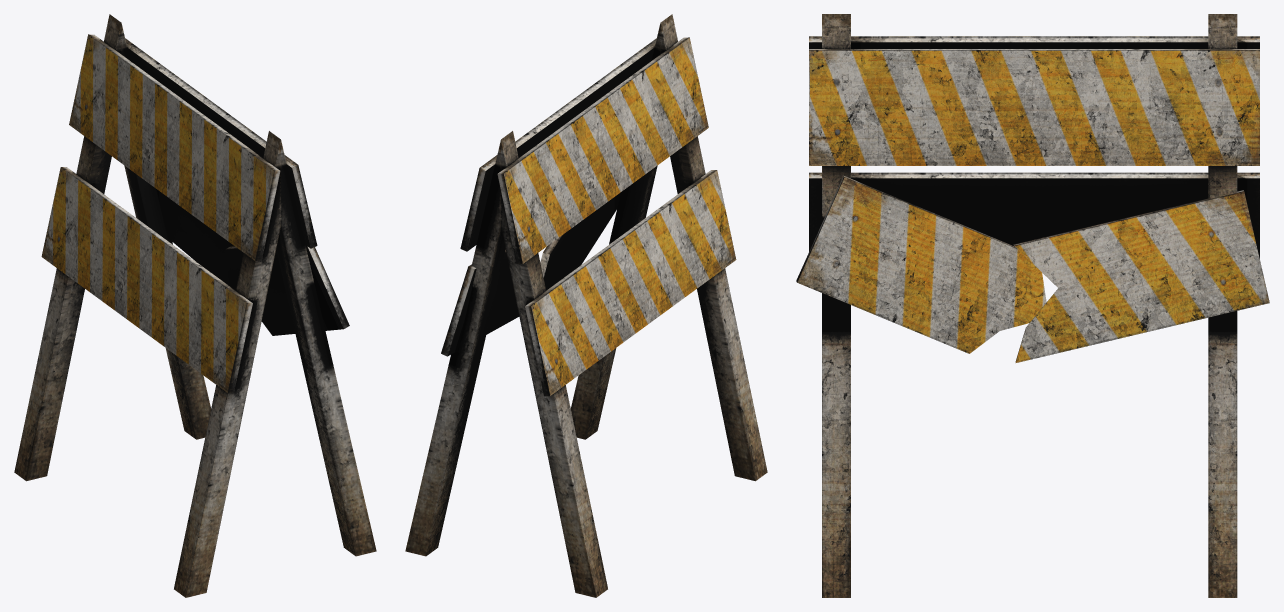
The model's file is BarrierWoodBroken.fbx.
3 views of the same model, side by side, from view 1: azimuth 30°, elevation 25°; view 2: azimuth 150°, elevation 25°; view 3: azimuth 270°, elevation 25° (orthographic). The views are drawn at different scales.
Parts seen in each view (by area): view 1: BarrierWoodSmallBroken_LOD0; view 2: BarrierWoodSmallBroken_LOD0; view 3: BarrierWoodSmallBroken_LOD0.
Boxes of the visible parts, box(x1,y1,x2,y2) form: BarrierWoodSmallBroken_LOD0: box(14, 14, 376, 597); BarrierWoodSmallBroken_LOD0: box(405, 14, 767, 597); BarrierWoodSmallBroken_LOD0: box(796, 14, 1269, 597).
Size of what is drawn, in the model's own units: 58.32 by 127 by 103.
